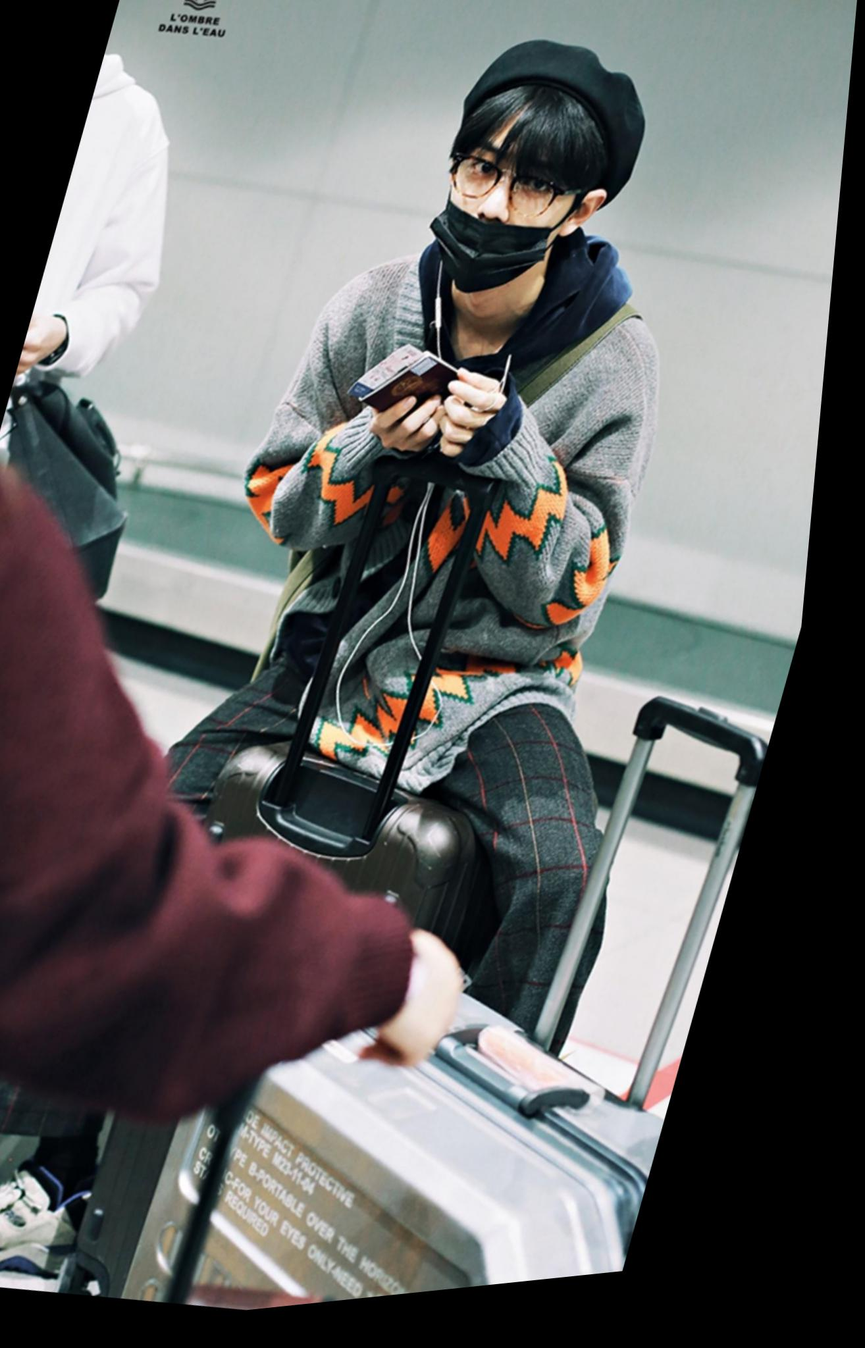WRONG: (428, 136, 590, 320)
